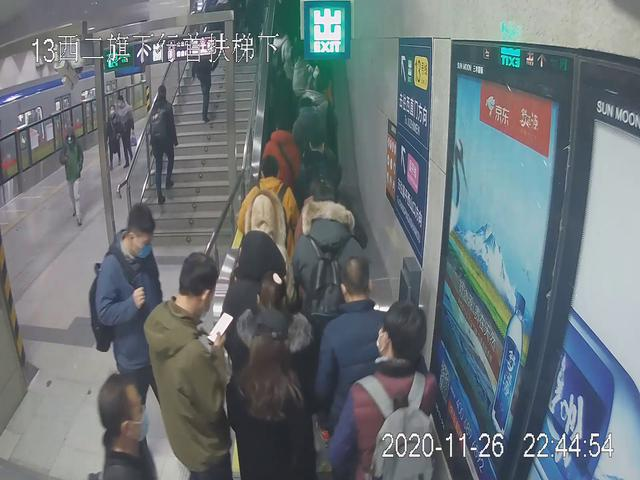person: (328, 301, 454, 480), (92, 205, 178, 451), (144, 252, 232, 480), (315, 258, 407, 471), (227, 274, 322, 480), (241, 153, 296, 311), (141, 84, 174, 205), (189, 30, 217, 125), (59, 128, 86, 224), (113, 92, 137, 171)
